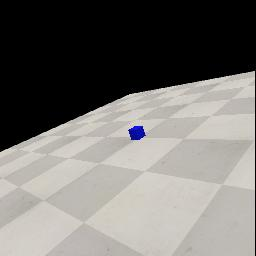box: (128, 126, 146, 140)
